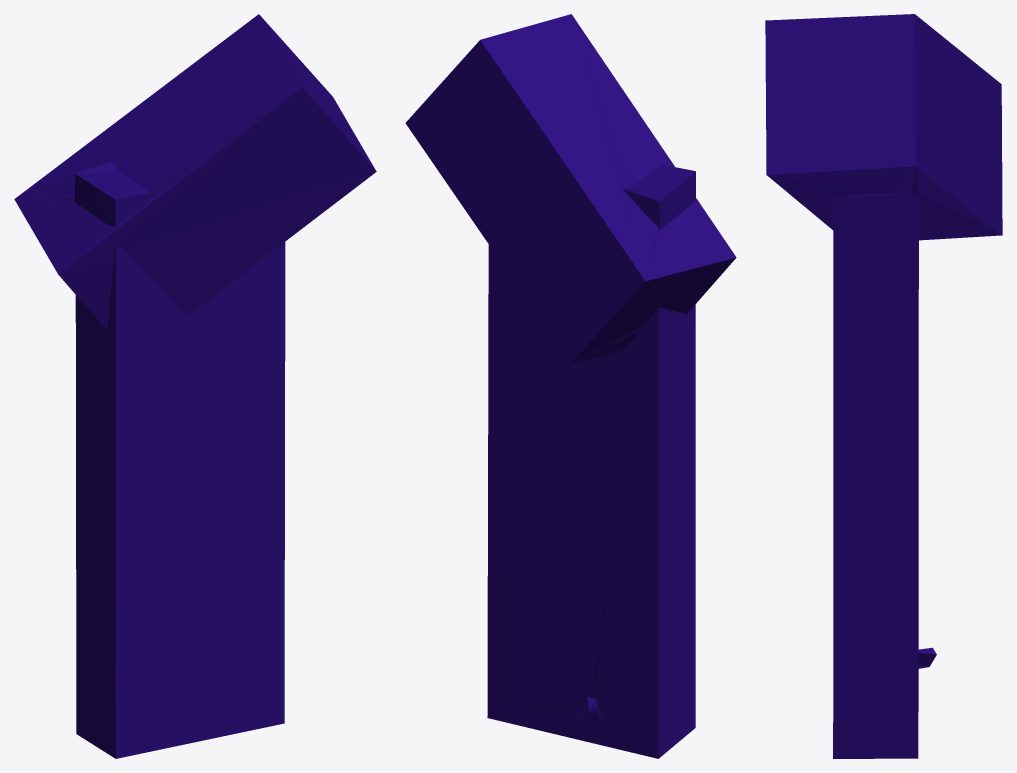
The picture shows the model from 3 angles, left to right: view 1: azimuth 30°, elevation 25°; view 2: azimuth 150°, elevation 25°; view 3: azimuth 270°, elevation 25°; orthographic projection. The views are drawn at different scales.
Parts seen in each view (by area): view 1: 764_Cube.3076; view 2: 764_Cube.3076; view 3: 764_Cube.3076.
Boxes of the visible parts, left/top/right/bottom form: 764_Cube.3076: left=14, top=14, right=376, bottom=758; 764_Cube.3076: left=405, top=14, right=736, bottom=758; 764_Cube.3076: left=765, top=14, right=1002, bottom=758.
Size of the model in its own units: 6.82 by 14.59 by 4.17.
